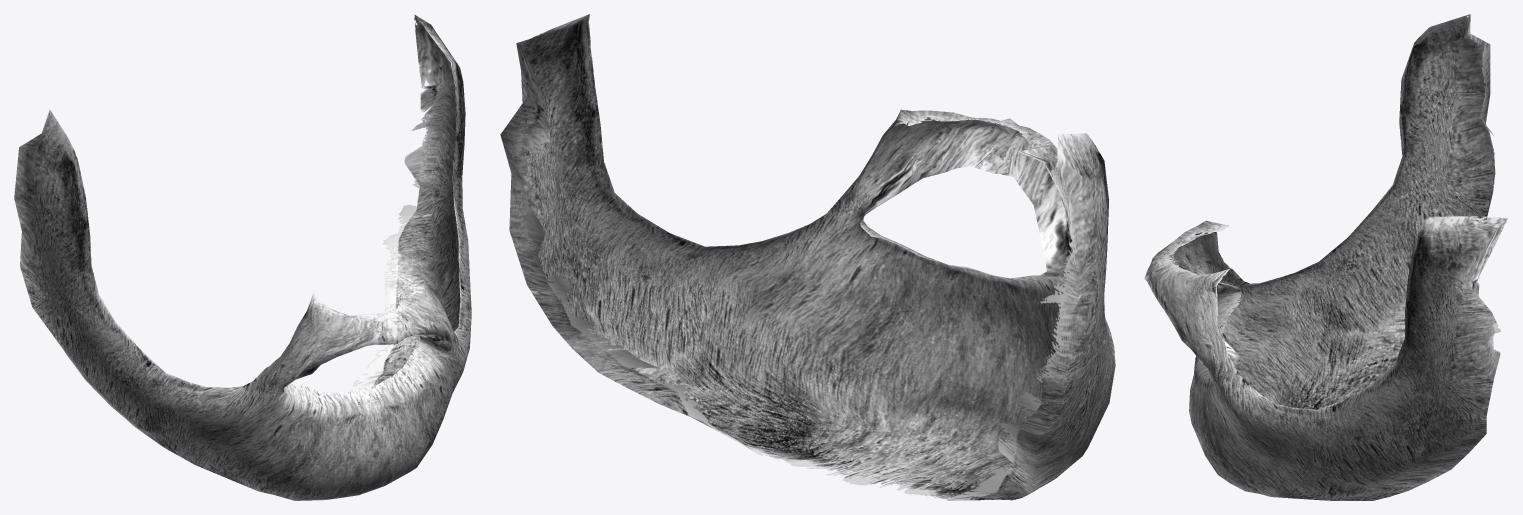
The model's file is facial_beard_full.gltf.
3 renders of one model, left to right at view 1: azimuth 30°, elevation 25°; view 2: azimuth 150°, elevation 25°; view 3: azimuth 270°, elevation 25°, orthographic. The views are drawn at different scales.
Visible parts, largest first — view 1: facial_beard_full; view 2: facial_beard_full; view 3: facial_beard_full.
Boxes of the visible parts, x1,y1,x2,y2 form: facial_beard_full: [14, 14, 471, 500]; facial_beard_full: [500, 14, 1115, 500]; facial_beard_full: [1144, 14, 1507, 500].
Bounding box in the file's own units: 0.1402 × 0.1099 × 0.0994.
Materials: 1 (1 with a texture image).
